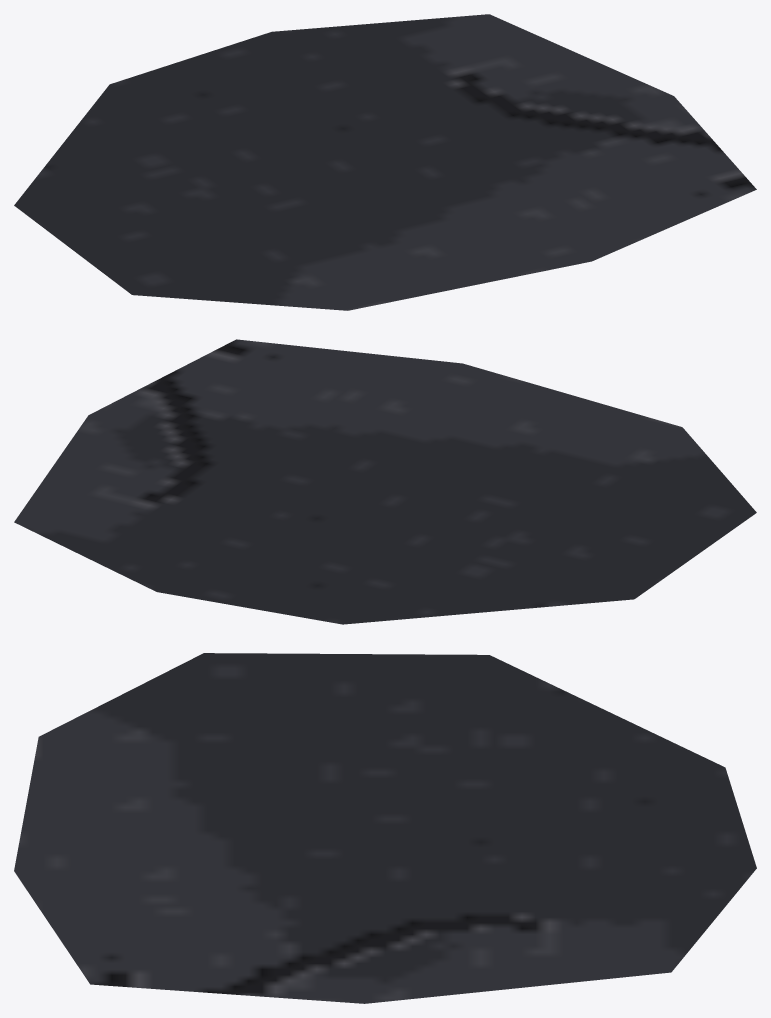
The model's file is RD_Driveway_3x8m.obj.
The picture shows the model from 3 angles, top to bottom: view 1: azimuth 30°, elevation 25°; view 2: azimuth 150°, elevation 25°; view 3: azimuth 270°, elevation 25°; orthographic projection. The views are drawn at different scales.
Visible parts, largest first — view 1: RD_Driveway_3x8m_Mesh_M_Road_RoadPatch; view 2: RD_Driveway_3x8m_Mesh_M_Road_RoadPatch; view 3: RD_Driveway_3x8m_Mesh_M_Road_RoadPatch.
Boxes of the visible parts, x1,y1,x2,y2 form: RD_Driveway_3x8m_Mesh_M_Road_RoadPatch: (14,14,756,310); RD_Driveway_3x8m_Mesh_M_Road_RoadPatch: (14,339,756,624); RD_Driveway_3x8m_Mesh_M_Road_RoadPatch: (14,653,756,1003).
Size of what is drawn, in the model's own units: 0.9485 by 0 by 0.849.
1 material, 1 textured.
